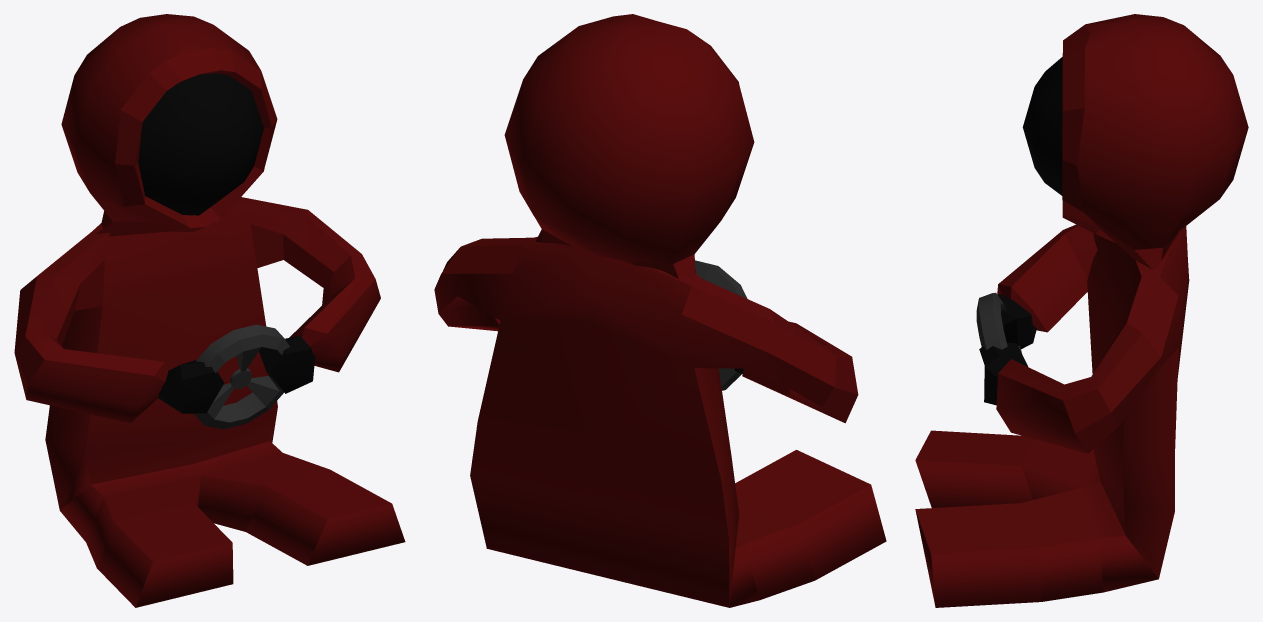
File: character-parsche-sport-green_4.fbx
The picture shows the model from 3 angles, left to right: view 1: azimuth 30°, elevation 25°; view 2: azimuth 150°, elevation 25°; view 3: azimuth 270°, elevation 25°; orthographic projection. The views are drawn at different scales.
Visible parts, largest first — view 1: character-parsche-sport-green_4; view 2: character-parsche-sport-green_4; view 3: character-parsche-sport-green_4.
Boxes of the visible parts, x1,y1,x2,y2 form: character-parsche-sport-green_4: (14, 14, 405, 607); character-parsche-sport-green_4: (434, 14, 886, 607); character-parsche-sport-green_4: (915, 14, 1248, 607).
Bounding box in the file's own units: 0.7346 × 0.5685 × 0.9615.
